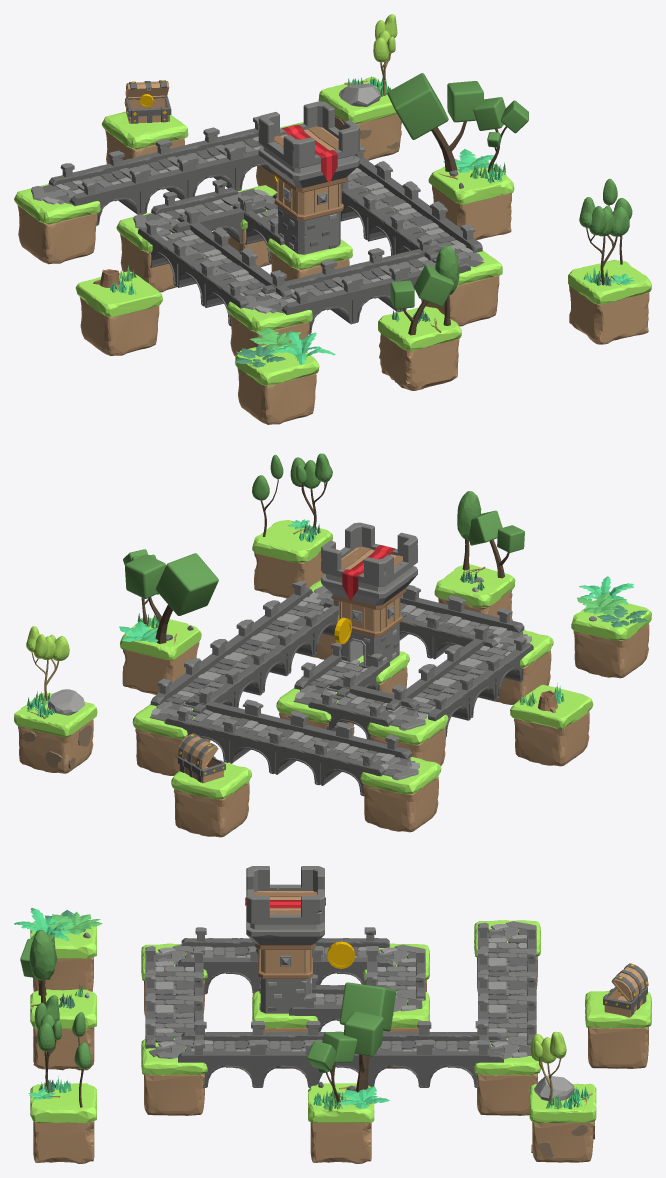
3 views of the same model, one above another, from view 1: azimuth 30°, elevation 25°; view 2: azimuth 150°, elevation 25°; view 3: azimuth 270°, elevation 25° (orthographic). The views are drawn at different scales.
Parts seen in each view (by area): view 1: TowerV1, TreeV3_004, Tile_Bot_Part_12, Tile_Bot_Part_13, Tile_Bot_Part, Bridge_002_3, Tile_Bot_Part_11, Tile_Bot_Part_9, Bridge_002_5, Bridge_002, Bridge_002_6, Bridge_002_2 (+46 smaller); view 2: TowerV1, TreeV3_004, Bridge_002_5, Bridge_002_3, Tile_Bot_Part, Tile_Bot_Part_7, Tile_Bot_Part_9, Tile_Bot_Part_11, Bridge_002_7, Bridge_002_8, Bridge_002_6, Bridge_002 (+45 smaller); view 3: TowerV1, TreeV3_004, Bridge_002_9, Bridge_002_13, Bridge_002_12, Bridge_002, Tile_Bot_Part_13, Tile_Bot_Part_7, Tile_Bot_Part_5, Tile_Bot_Part_8, Tile_Bot_Part_1, Tile_Top_Part_13 (+45 smaller).
Part boxes in pixels (<box>): TowerV1: <box>258,101,359,254</box>; TreeV3_004: <box>387,73,483,171</box>; Tile_Bot_Part_12: <box>379,333,459,390</box>; Tile_Bot_Part_13: <box>569,285,649,344</box>; Tile_Bot_Part: <box>17,205,97,264</box>; Bridge_002_3: <box>151,179,265,243</box>; Tile_Bot_Part_11: <box>237,367,316,424</box>; Tile_Bot_Part_9: <box>79,296,159,355</box>; Bridge_002_5: <box>48,150,158,225</box>; Bridge_002: <box>193,247,292,326</box>; Bridge_002_6: <box>99,139,205,214</box>; Bridge_002_2: <box>138,207,235,286</box>; TowerV1: <box>321,522,417,666</box>; TreeV3_004: <box>125,553,218,643</box>; Bridge_002_5: <box>302,722,411,796</box>; Bridge_002_3: <box>309,672,419,739</box>; Tile_Bot_Part: <box>363,777,438,832</box>; Tile_Bot_Part_7: <box>174,782,249,837</box>; Tile_Bot_Part_9: <box>514,711,589,766</box>; Tile_Bot_Part_11: <box>573,624,649,678</box>; Bridge_002_7: <box>211,699,316,773</box>; Bridge_002_8: <box>165,688,272,762</box>; Bridge_002_6: <box>257,710,363,785</box>; Bridge_002: <box>445,625,533,698</box>; TowerV1: <box>246,866,324,1013</box>; TreeV3_004: <box>339,982,396,1092</box>; Bridge_002_9: <box>400,1021,503,1087</box>; Bridge_002_13: <box>178,1021,277,1087</box>; Bridge_002_12: <box>233,1021,324,1087</box>; Bridge_002: <box>178,927,258,994</box>; Tile_Bot_Part_13: <box>33,1121,94,1163</box>; Tile_Bot_Part_7: <box>588,1026,648,1068</box>; Tile_Bot_Part_5: <box>144,1073,204,1115</box>; Tile_Bot_Part_8: <box>310,1122,371,1163</box>; Tile_Bot_Part_1: <box>477,1073,537,1115</box>; Tile_Top_Part_13: <box>30,1083,96,1122</box>.
Size of the model in its own units: 9.61 by 3.5 by 11.5.
Materials: 1 (1 with a texture image).
